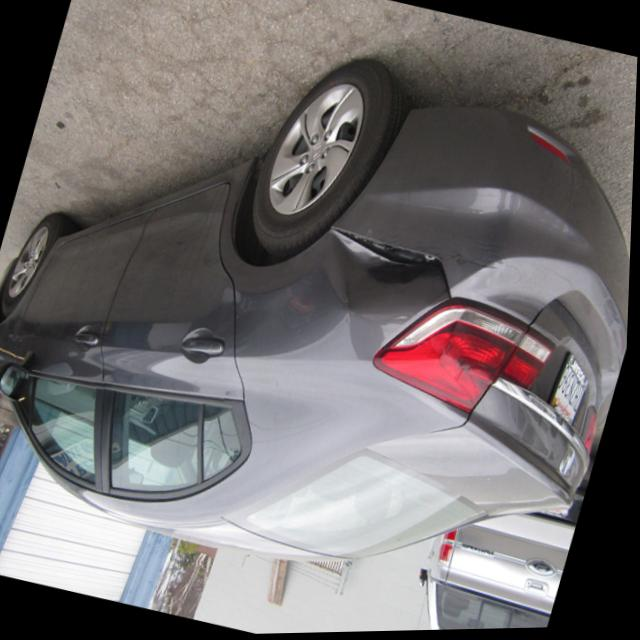Scratch: (344, 231, 488, 279)
